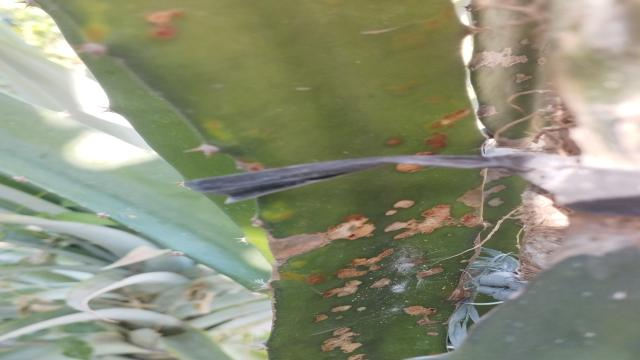stemcanker: (138, 0, 196, 49), (365, 123, 410, 155), (414, 130, 451, 155)
